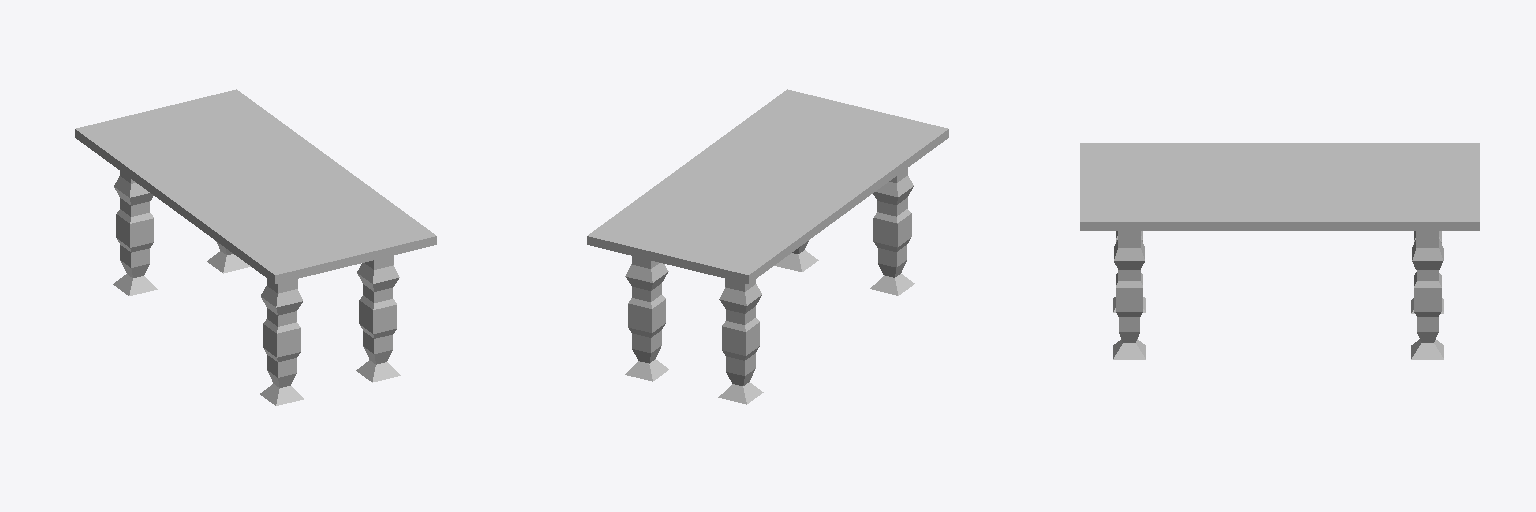
The model's file is table.obj.
3 renders of one model, left to right at view 1: azimuth 30°, elevation 25°; view 2: azimuth 150°, elevation 25°; view 3: azimuth 270°, elevation 25°, orthographic.
Visible parts, largest first — view 1: Cube; view 2: Cube; view 3: Cube.
Boxes of the visible parts, box(x1,y1,x2,y2) form: Cube: box(75, 89, 436, 405); Cube: box(587, 89, 948, 404); Cube: box(1080, 143, 1479, 359).
Bounding box in the file's own units: 3.92 × 3.4 × 8.4.